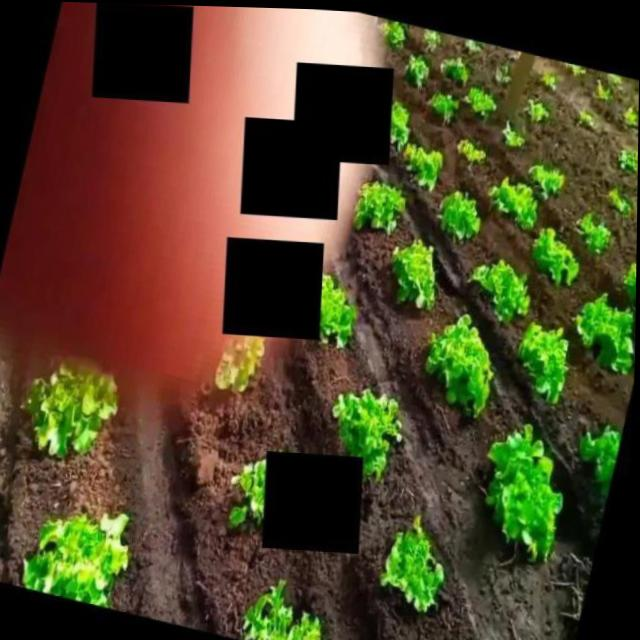Baby: (577, 213, 610, 254), (528, 163, 563, 199), (456, 139, 484, 164)
Mature: (485, 425, 561, 559), (23, 362, 118, 457), (425, 315, 493, 416), (488, 177, 536, 229)
